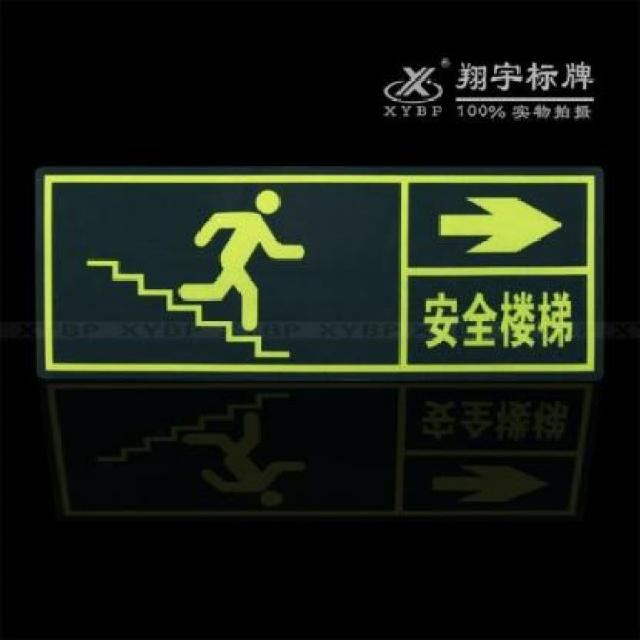exit_sign: (32, 170, 600, 378)
